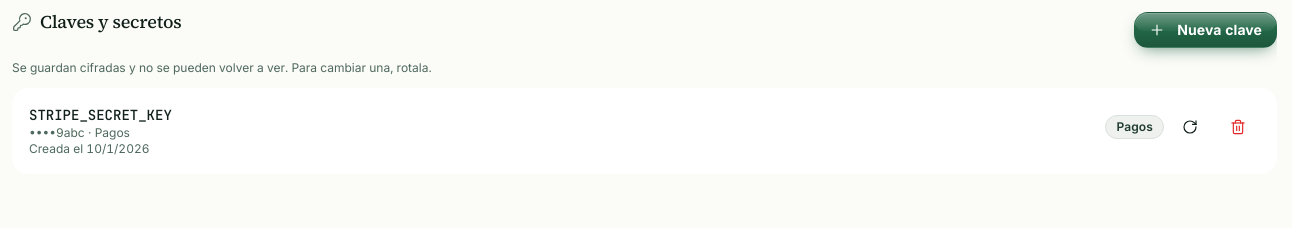
Test: SecretsSection: rotar y revocar › rotar manda el nuevo valor por step-up y vacía el campo
Click the button named "Rotar STRIPE_SECRET_KEY": (1190, 127) x1=1168 y1=105 x2=1212 y2=149
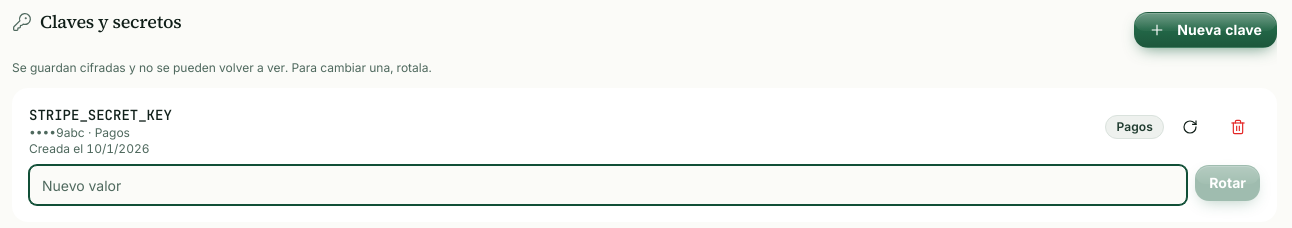
In the password field with placeholder "Nuevo valor": (608, 185) x1=29 y1=165 x2=1187 y2=205, type "nuevo-secreto-123"
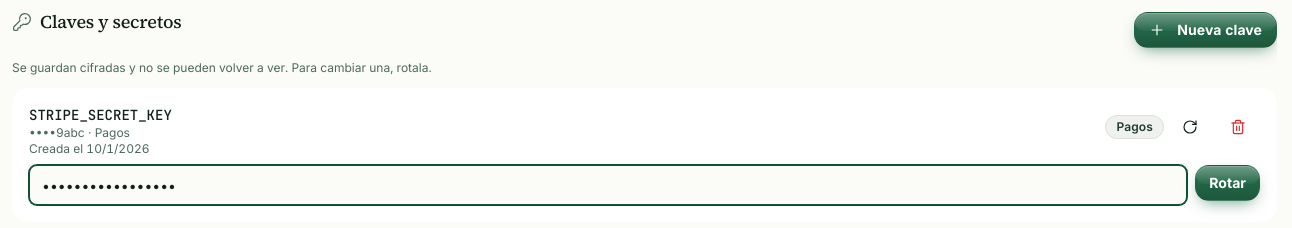
Click the button "Rotar": (1228, 183) x1=1195 y1=165 x2=1260 y2=201
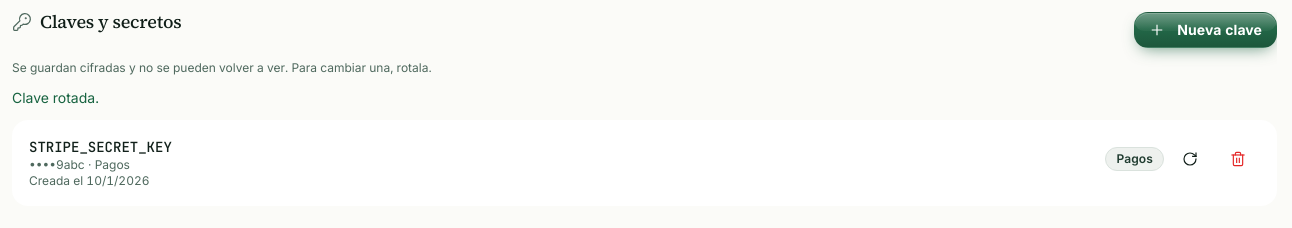
expect the message shows "rotada": met, box x1=12 y1=89 x2=99 y2=106
